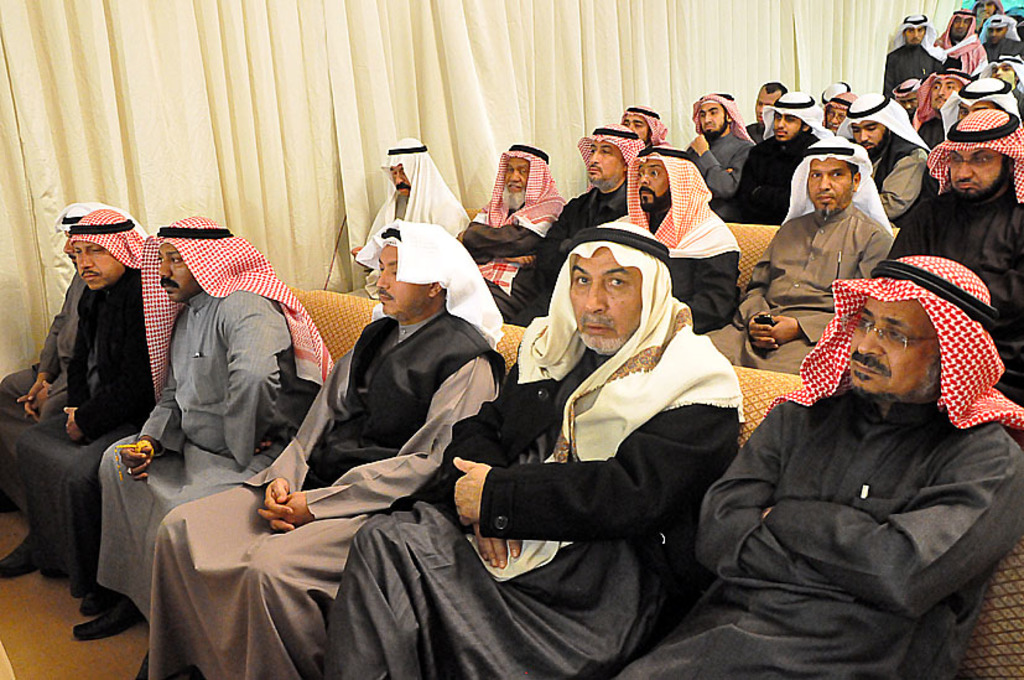Human-face: (848, 294, 939, 391), (571, 243, 644, 349), (375, 245, 427, 317), (942, 146, 1008, 198), (805, 155, 854, 216), (72, 235, 125, 287), (156, 243, 202, 301), (584, 140, 624, 185), (638, 157, 670, 209), (697, 97, 732, 137), (854, 118, 888, 159), (927, 76, 961, 109), (501, 159, 529, 199), (774, 109, 806, 141), (755, 90, 780, 124), (826, 103, 849, 139), (701, 103, 722, 140), (390, 162, 410, 198), (628, 118, 651, 144), (618, 114, 644, 135), (822, 107, 843, 133), (903, 24, 925, 46), (984, 25, 1007, 42), (951, 16, 968, 37)
